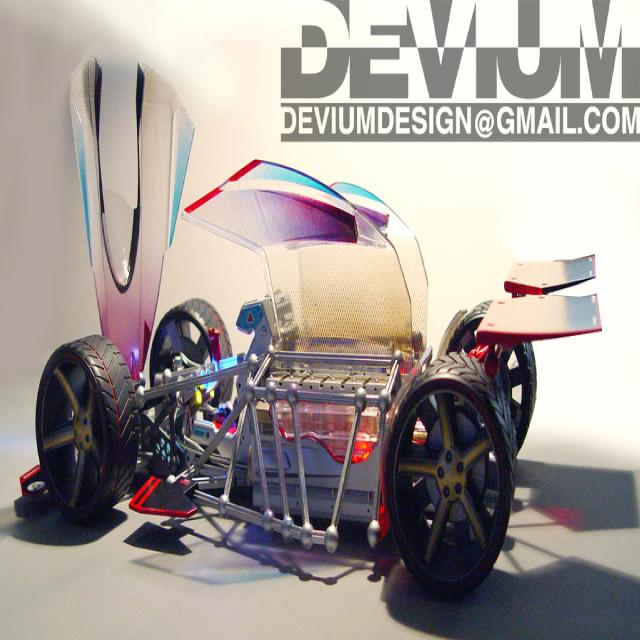car: (15, 156, 601, 599)
